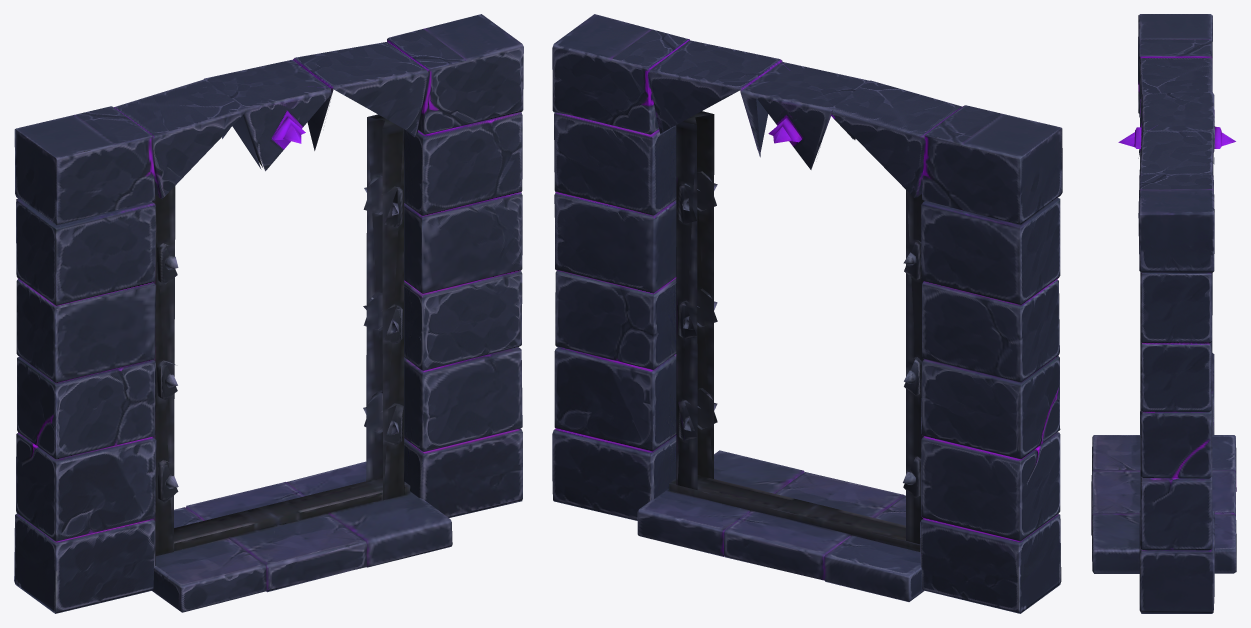
File: door_square_open_derived.glb
3 views of the same model, side by side, from view 1: azimuth 30°, elevation 25°; view 2: azimuth 150°, elevation 25°; view 3: azimuth 270°, elevation 25° (orthographic). The views are drawn at different scales.
Parts seen in each view (by area): view 1: SquareDoorOpenFrame; view 2: SquareDoorOpenFrame; view 3: SquareDoorOpenFrame.
Boxes of the visible parts, x1,y1,x2,y2 form: SquareDoorOpenFrame: (14,14,523,613); SquareDoorOpenFrame: (552,14,1062,613); SquareDoorOpenFrame: (1091,14,1236,613).
Bounding box in the file's own units: 1 × 0.9473 × 0.3076.
1 material, 1 textured.
